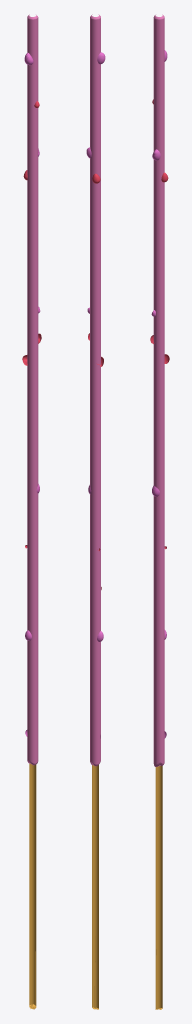
The model's file is pocky_strawberry.gltf.
The picture shows the model from 3 angles, left to right: view 1: azimuth 90°, elevation 25°; view 2: azimuth 210°, elevation 25°; view 3: azimuth 270°, elevation 25°; orthographic projection.
Parts seen in each view (by area): view 1: Cylinder.002, core.001_Cylinder.003, Sphere, Sphere.001; view 2: Cylinder.002, core.001_Cylinder.003, Sphere; view 3: Cylinder.002, core.001_Cylinder.003, Sphere, Sphere.001.
Boxes of the visible parts, x1,y1,x2,y2 form: Cylinder.002: (27, 14, 38, 765); core.001_Cylinder.003: (29, 763, 36, 1009); Sphere: (24, 52, 40, 736); Sphere.001: (22, 101, 41, 548); Cylinder.002: (90, 14, 100, 766); core.001_Cylinder.003: (92, 765, 98, 1009); Sphere: (86, 52, 105, 738); Cylinder.002: (153, 14, 164, 766); core.001_Cylinder.003: (155, 766, 162, 1009); Sphere: (151, 50, 167, 738); Sphere.001: (150, 99, 169, 549).
Bounding box in the file's own units: 0.6432 × 42.77 × 0.7507.
